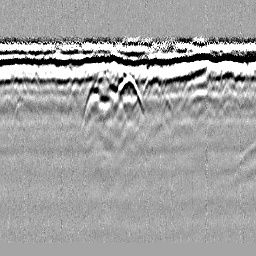cavity: (112, 75, 143, 108)
